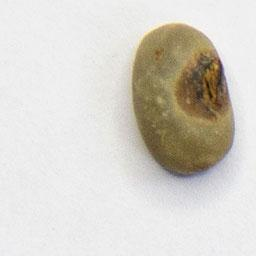defect: (129, 20, 238, 177)
